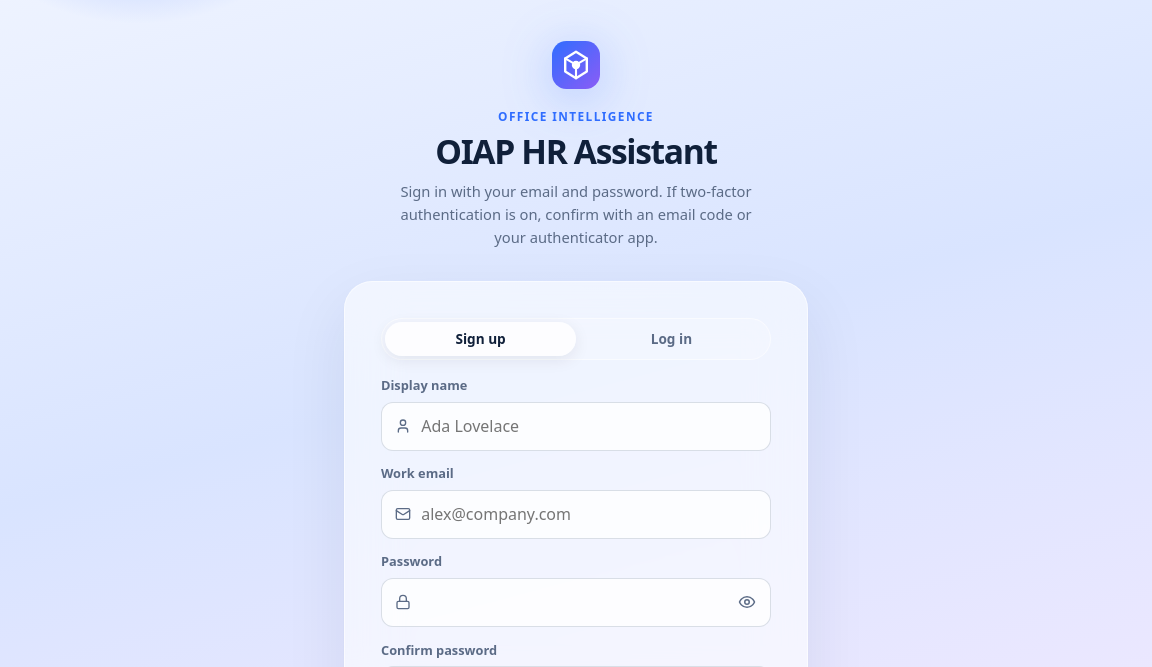
authentication › prevents signup when password does not meet complexity requirements
The width and height of the screenshot is (1152, 667).
In the field labelled "Display name": (576, 426) [381,402,771,451], type "Ada"
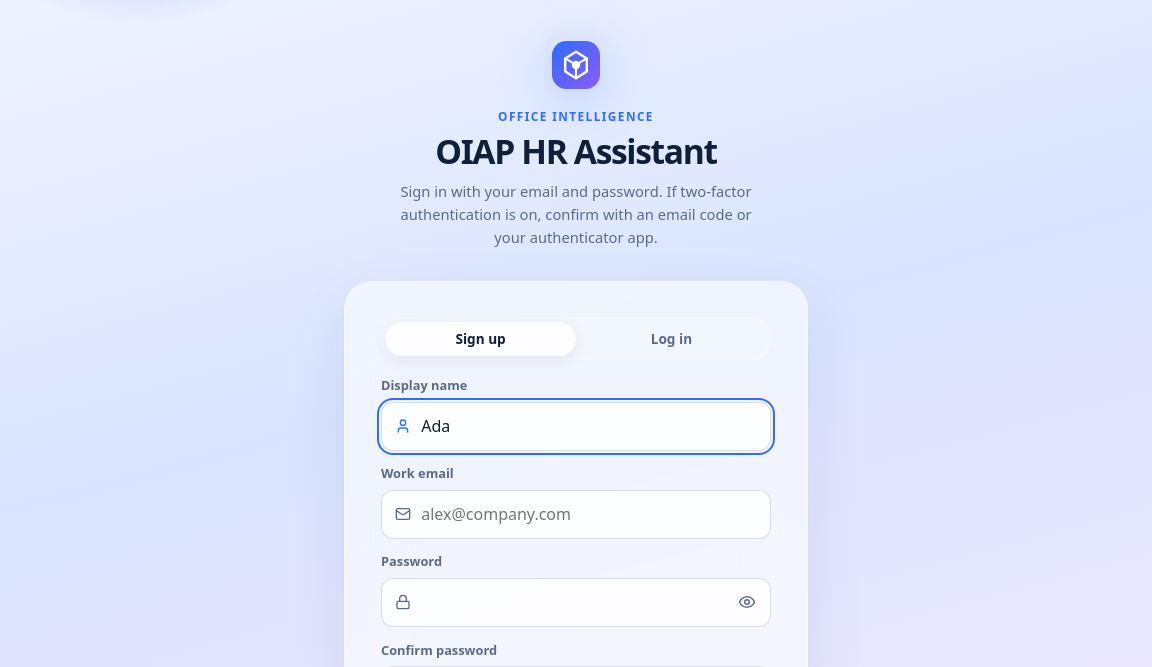
In the field labelled "Work email": (576, 514) [381,490,771,539], type "ada@example.com"
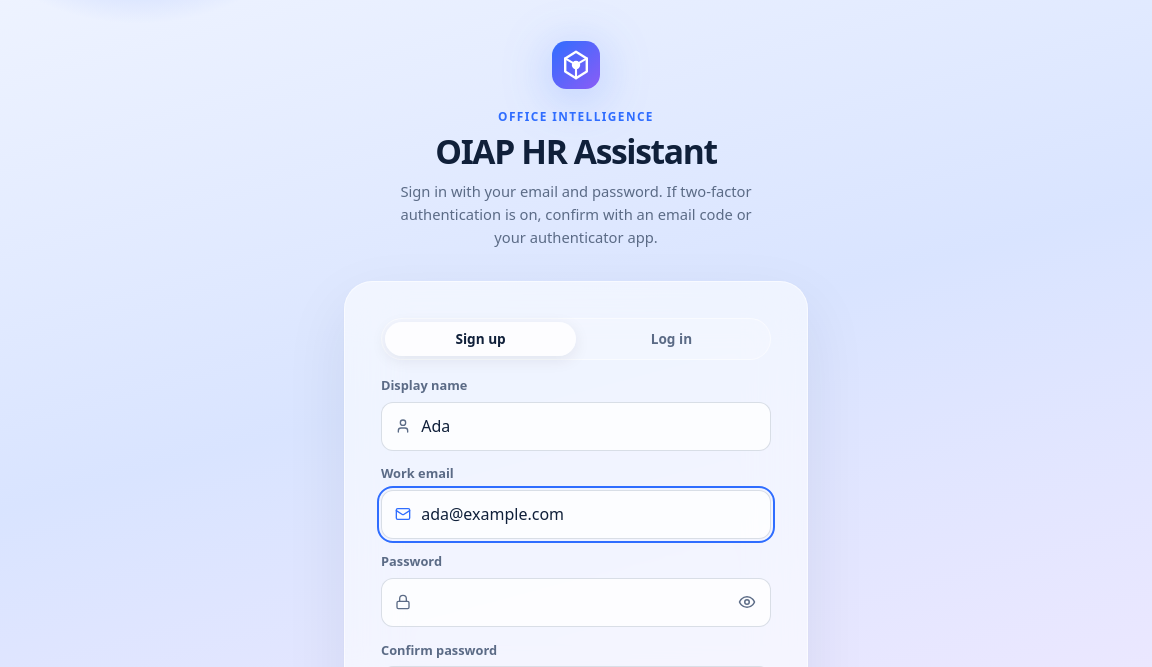
In the password field labelled "Password": (576, 602) [381,578,771,627], type "simple"
(page scrolled)
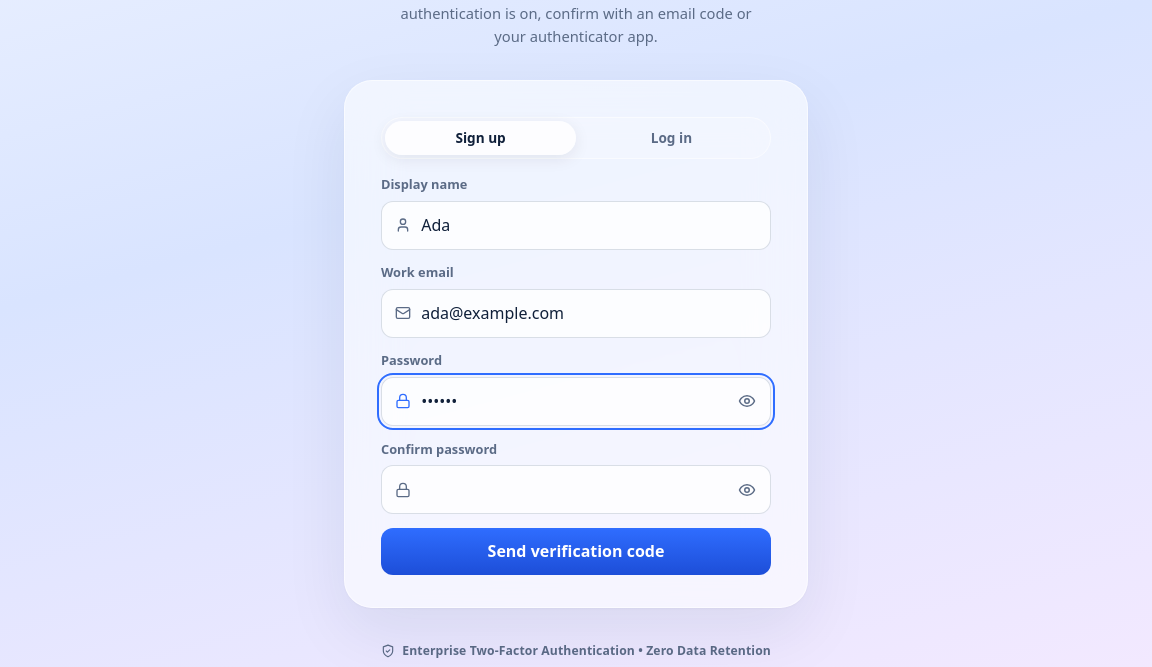
Click the button "Send verification code": (576, 551) [381,528,771,575]
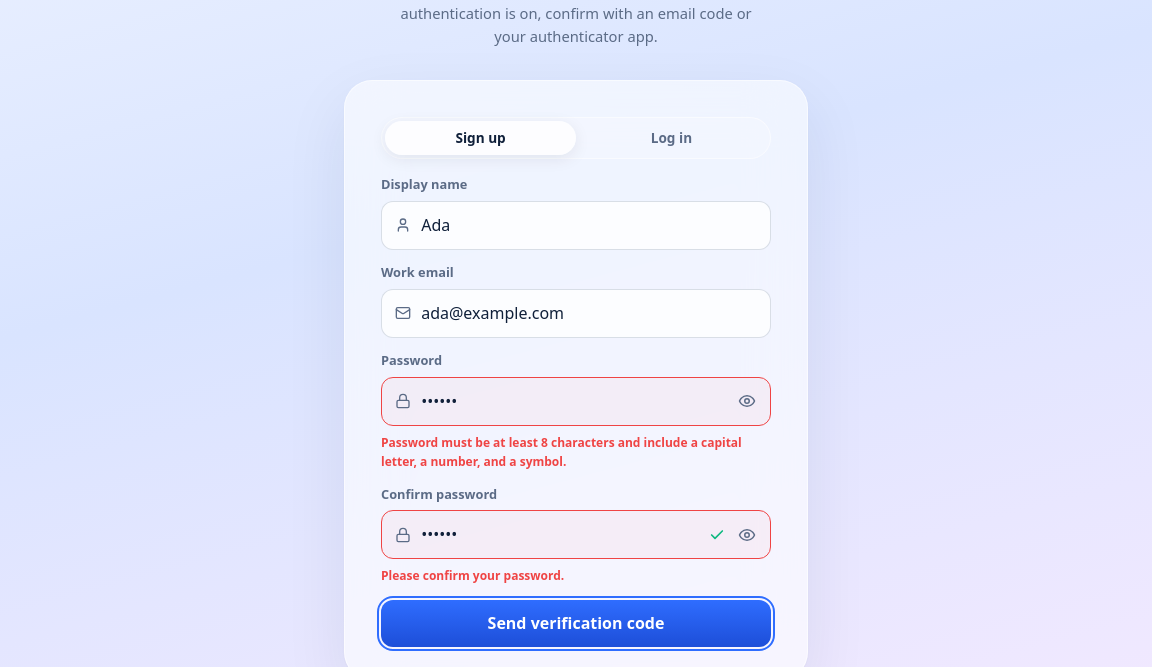
Expected: the text "password must be at least 8 characters and include a capital letter, a number, and a symbol" is shown, [381,434,742,470]
